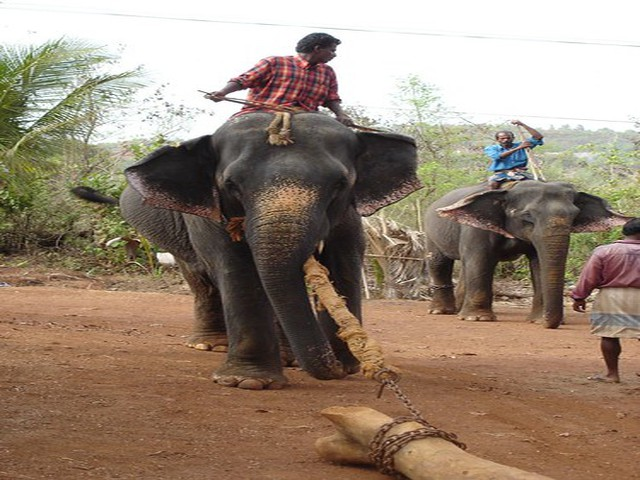Elephant: (113, 104, 425, 390), (424, 175, 612, 326)
Person: (207, 30, 350, 105), (577, 213, 638, 386), (477, 116, 544, 185)
